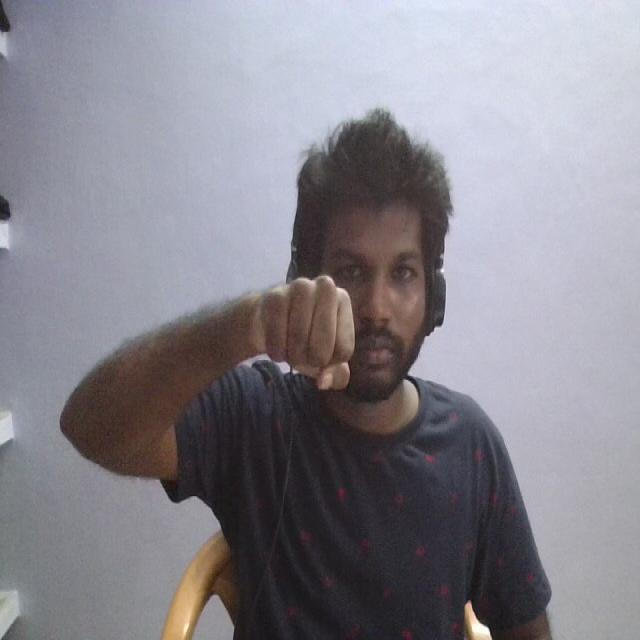Yes: (167, 236, 405, 472)
